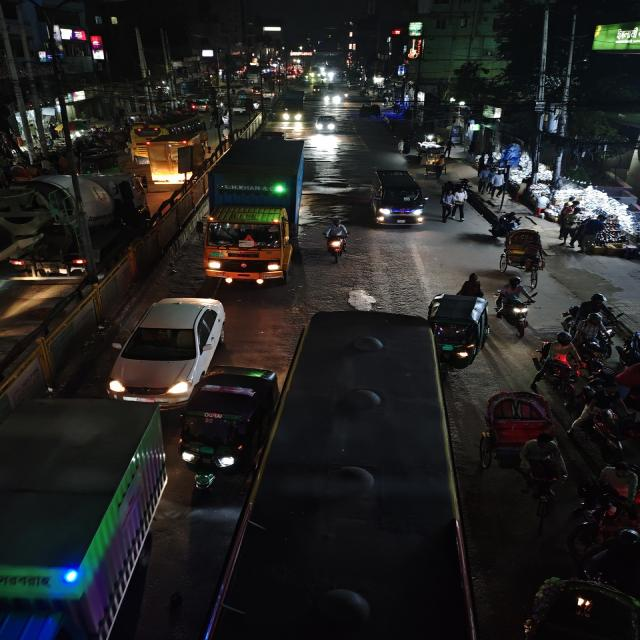bus: (219, 310, 471, 640), (200, 136, 312, 288)
car: (109, 294, 232, 404), (367, 166, 430, 228), (312, 113, 339, 135)
cng: (177, 364, 278, 494), (425, 291, 489, 367)
motorcycle: (494, 274, 537, 330), (320, 216, 351, 264)
rickshaw: (471, 387, 564, 469), (497, 228, 549, 286)
truck: (0, 396, 167, 640), (0, 171, 151, 284), (147, 134, 201, 184), (280, 90, 306, 122)
